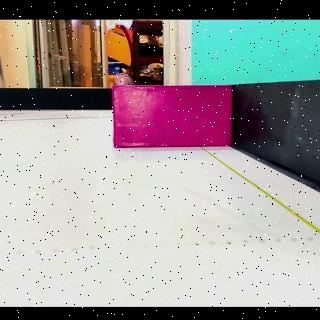xparking: (114, 86, 232, 146)
